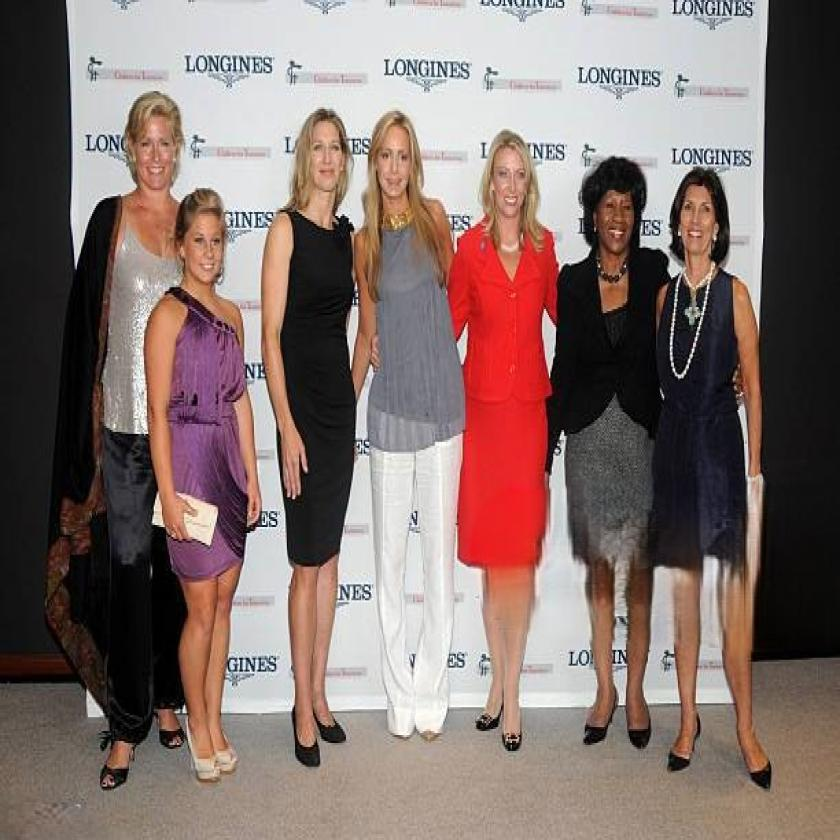Sin_casco: (362, 104, 428, 215), (130, 89, 188, 215), (584, 158, 647, 272), (173, 181, 231, 304), (295, 107, 354, 220), (486, 129, 538, 238), (674, 169, 733, 264)
